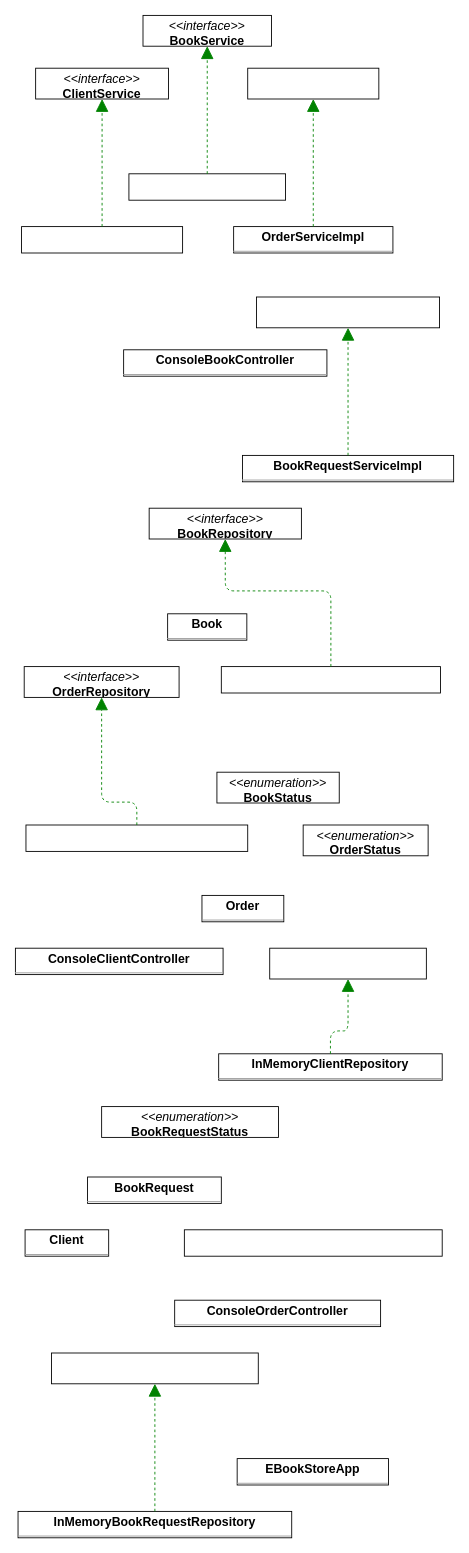
The diagram is 469 pixels wide and 1553 high, and some of its shapes have lost their labels. Each missing label, with the centre of its shape:
"<<interface>> BookRequestRepository" belongs at point (154, 1368).
"<<interface>> BookRequestService" belongs at point (348, 312).
"<<interface>> ClientRepository" belongs at point (347, 963).
"<<interface>> OrderService" belongs at point (313, 83).
"BookServiceImpl" belongs at point (207, 186).
"ClientServiceImpl" belongs at point (102, 239).
"ConsoleBookRequestController" belongs at point (312, 1242).
"InMemoryBookRepository" belongs at point (330, 679).
"InMemoryOrderRepository" belongs at point (136, 837).
